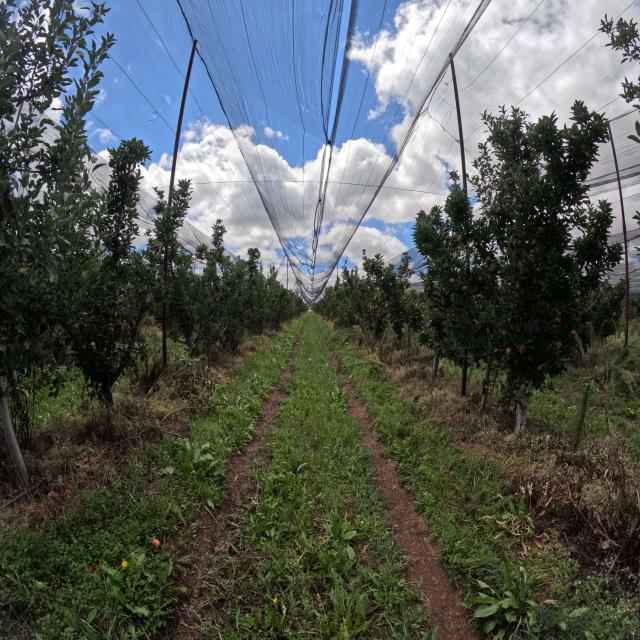-FireBlight-: (457, 377, 489, 417), (273, 307, 275, 308)
